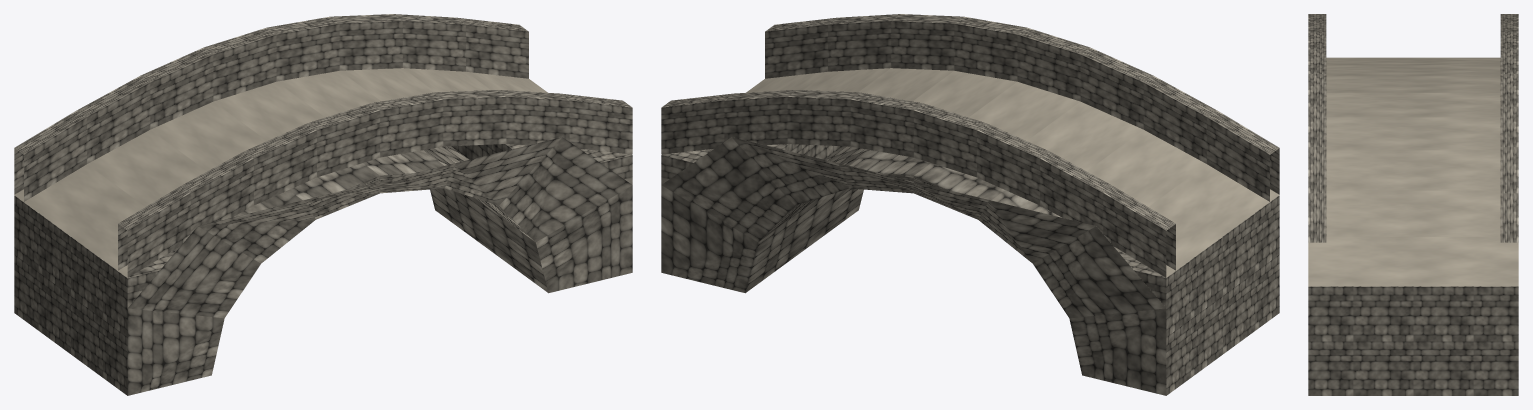
The model's file is Bridge_Stone_Hump_1_LOD1.gltf.
3 renders of one model, left to right at view 1: azimuth 30°, elevation 25°; view 2: azimuth 150°, elevation 25°; view 3: azimuth 270°, elevation 25°, orthographic. The views are drawn at different scales.
Parts seen in each view (by area): view 1: Bridge_Stone_Hump_1_LOD1; view 2: Bridge_Stone_Hump_1_LOD1; view 3: Bridge_Stone_Hump_1_LOD1.
Part boxes in pixels (x1,y1,x2,y2): Bridge_Stone_Hump_1_LOD1: (14, 14, 632, 395); Bridge_Stone_Hump_1_LOD1: (661, 14, 1279, 395); Bridge_Stone_Hump_1_LOD1: (1308, 14, 1518, 395).
Size of the model in its own units: 9 by 3.81 by 3.5.
Materials: 2 (2 with a texture image).
